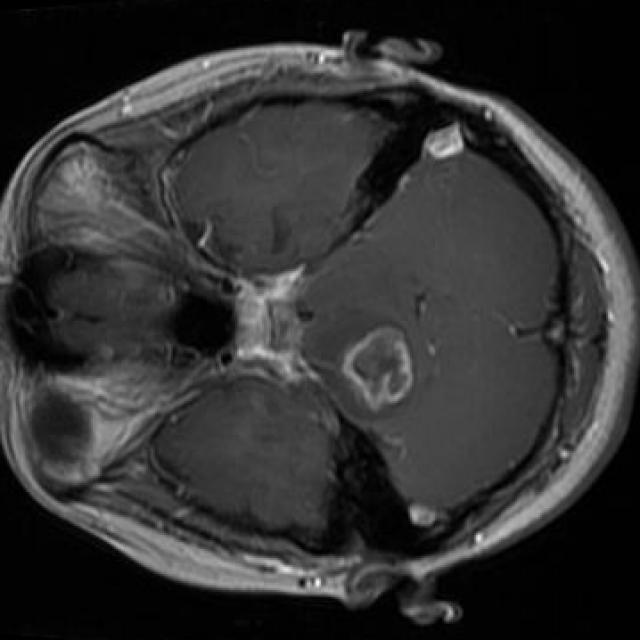glioma: (342, 332, 414, 414)
